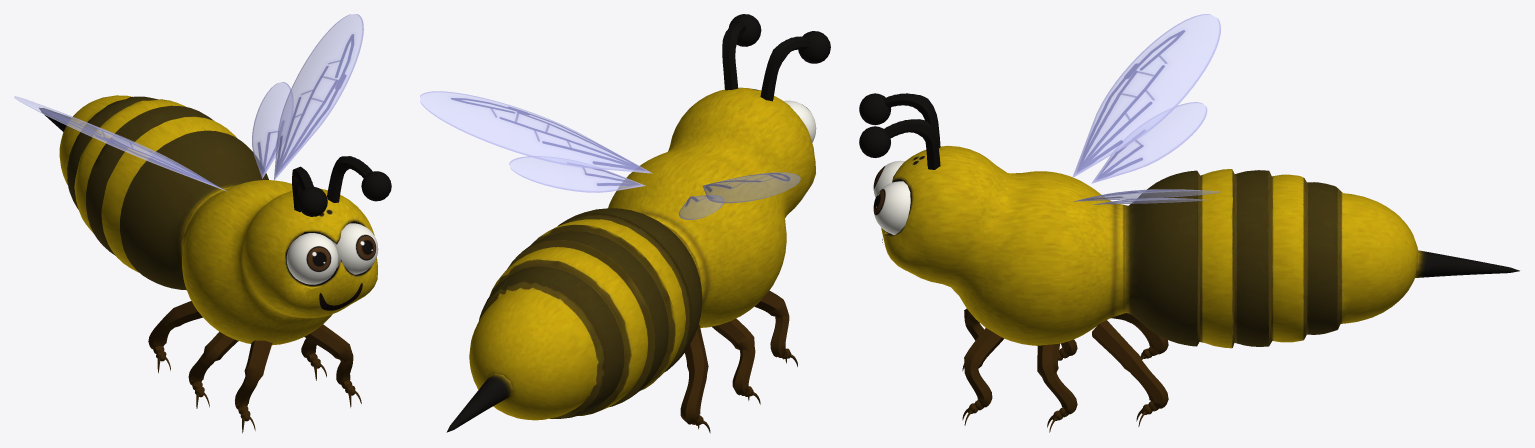
Rendered from bee.glb.
The picture shows the model from 3 angles, left to right: view 1: azimuth 30°, elevation 25°; view 2: azimuth 150°, elevation 25°; view 3: azimuth 270°, elevation 25°; orthographic projection. The views are drawn at different scales.
Visible parts, largest first — view 1: Body_Mesh, Wing_L_Mesh, Wing_R_Mesh, Eye_R_Mesh, Eye_L_Mesh, Antenna_L_Mesh, Leg_Front_L_Mesh, Leg_Front_R_Mesh, Leg_Hind_R_Mesh, Antenna_R_Mesh, Leg_Middle_R_Mesh, Leg_Middle_L_Mesh; view 2: Body_Mesh, Wing_L_Mesh, Wing_R_Mesh, Antenna_R_Mesh, Leg_Hind_R_Mesh, Antenna_L_Mesh, Leg_Middle_R_Mesh, Leg_Front_R_Mesh, Eye_R_Mesh; view 3: Body_Mesh, Wing_R_Mesh, Leg_Hind_L_Mesh, Antenna_L_Mesh, Antenna_R_Mesh, Leg_Front_L_Mesh, Eye_L_Mesh, Leg_Middle_L_Mesh, Wing_L_Mesh, Leg_Hind_R_Mesh.
Part boxes in pixels (left/top/right/bottom): Body_Mesh: left=39, top=95, right=377, bottom=345; Wing_L_Mesh: left=252, top=14, right=363, bottom=180; Wing_R_Mesh: left=14, top=96, right=227, bottom=191; Eye_R_Mesh: left=286, top=233, right=338, bottom=284; Eye_L_Mesh: left=330, top=223, right=378, bottom=274; Antenna_L_Mesh: left=327, top=156, right=391, bottom=202; Leg_Front_L_Mesh: left=304, top=324, right=361, bottom=407; Leg_Front_R_Mesh: left=235, top=340, right=272, bottom=433; Leg_Hind_R_Mesh: left=148, top=301, right=202, bottom=373; Antenna_R_Mesh: left=292, top=166, right=327, bottom=216; Leg_Middle_R_Mesh: left=188, top=331, right=238, bottom=408; Leg_Middle_L_Mesh: left=301, top=338, right=326, bottom=380; Body_Mesh: left=446, top=87, right=815, bottom=432; Wing_L_Mesh: left=420, top=91, right=652, bottom=192; Wing_R_Mesh: left=678, top=172, right=800, bottom=219; Antenna_R_Mesh: left=760, top=31, right=830, bottom=101; Leg_Hind_R_Mesh: left=680, top=324, right=710, bottom=433; Antenna_L_Mesh: left=722, top=14, right=761, bottom=90; Leg_Middle_R_Mesh: left=712, top=318, right=760, bottom=404; Leg_Front_R_Mesh: left=754, top=290, right=797, bottom=366; Eye_R_Mesh: left=783, top=100, right=816, bottom=142; Body_Mesh: left=881, top=145, right=1519, bottom=348; Wing_R_Mesh: left=1072, top=14, right=1220, bottom=183; Leg_Hind_L_Mesh: left=1092, top=320, right=1168, bottom=426; Antenna_L_Mesh: left=859, top=119, right=940, bottom=169; Antenna_R_Mesh: left=859, top=93, right=940, bottom=148; Leg_Front_L_Mesh: left=962, top=328, right=1003, bottom=425; Eye_L_Mesh: left=873, top=181, right=910, bottom=234; Leg_Middle_L_Mesh: left=1037, top=343, right=1077, bottom=432; Wing_L_Mesh: left=1073, top=189, right=1220, bottom=204; Leg_Hind_R_Mesh: left=1111, top=313, right=1168, bottom=359.
Size of the model in its own units: 0.3657 by 0.2873 by 0.578.
Materials: 7 (3 with a texture image).
